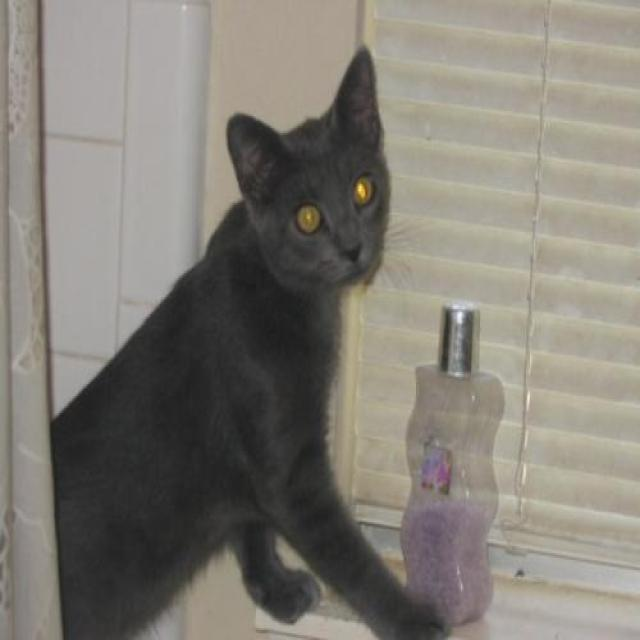Cats: (48, 43, 450, 638)
